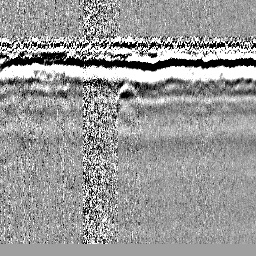cavity: (113, 83, 143, 106)
